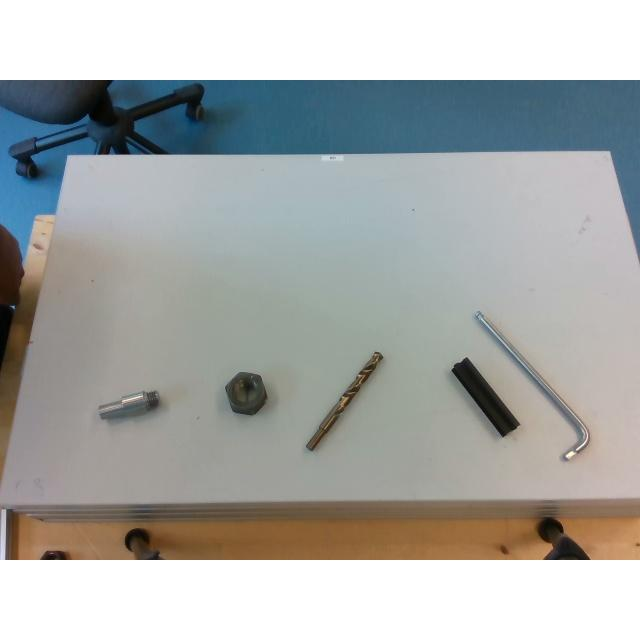AllenKey: (474, 308, 590, 459)
Axis2: (98, 390, 158, 418)
Drill: (306, 350, 382, 450)
F20_20_B: (450, 356, 518, 436)
M30: (226, 371, 266, 414)
